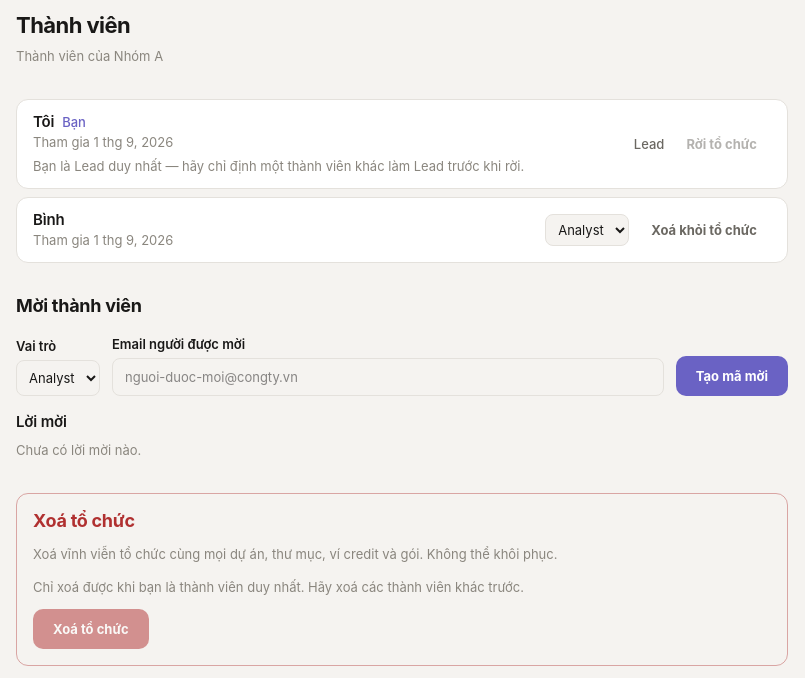
Scenario: trang thành viên — Lead › BE từ chối vì BR-02 thì hiện câu lỗi đã dịch
Select "Viewer" in the dropdown named "Vai trò của Bình" at {"x": 587, "y": 230}, box [545,214,629,246]
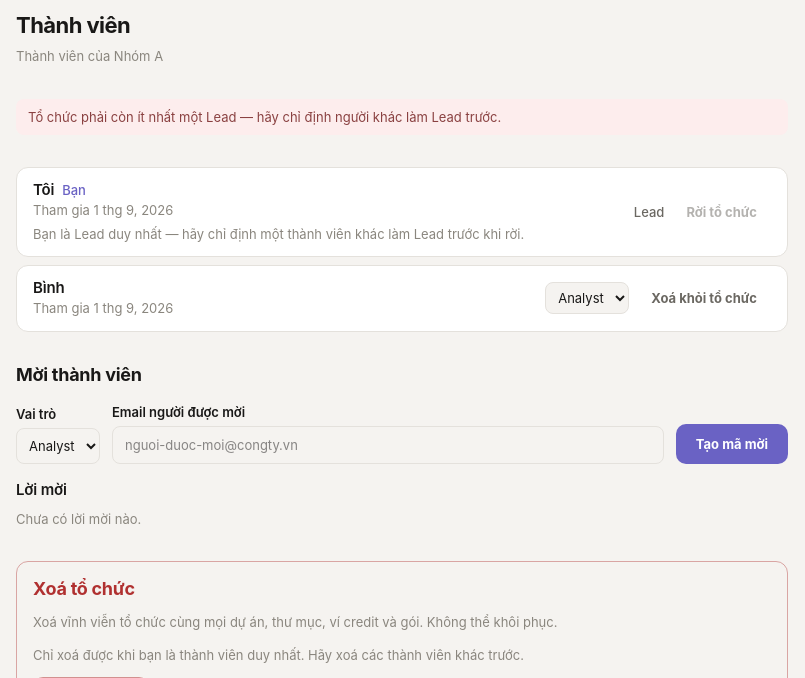
expect the message shows "ít nhất một Lead": met, box [28,108,501,124]
